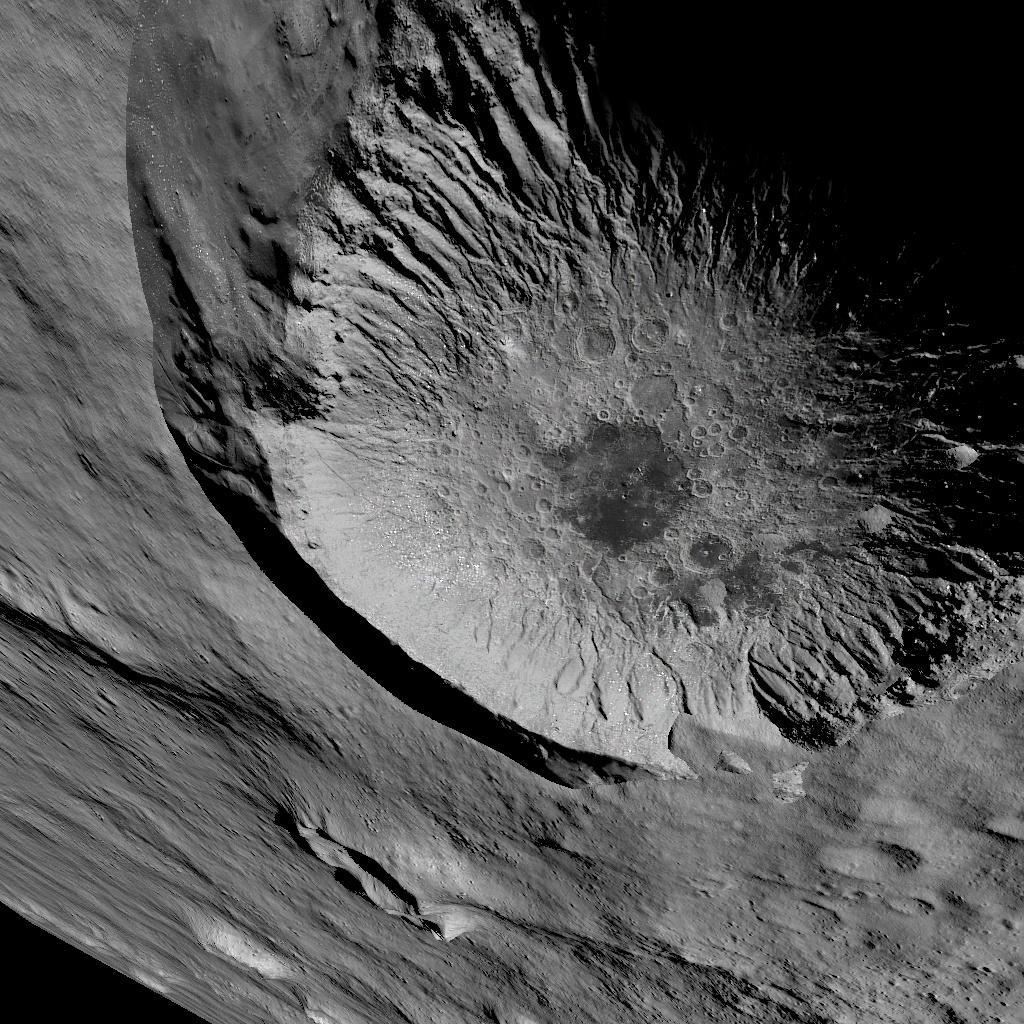Crater: (105, 0, 1024, 797), (258, 807, 434, 956)
Plan surface: (480, 824, 1019, 1022)
